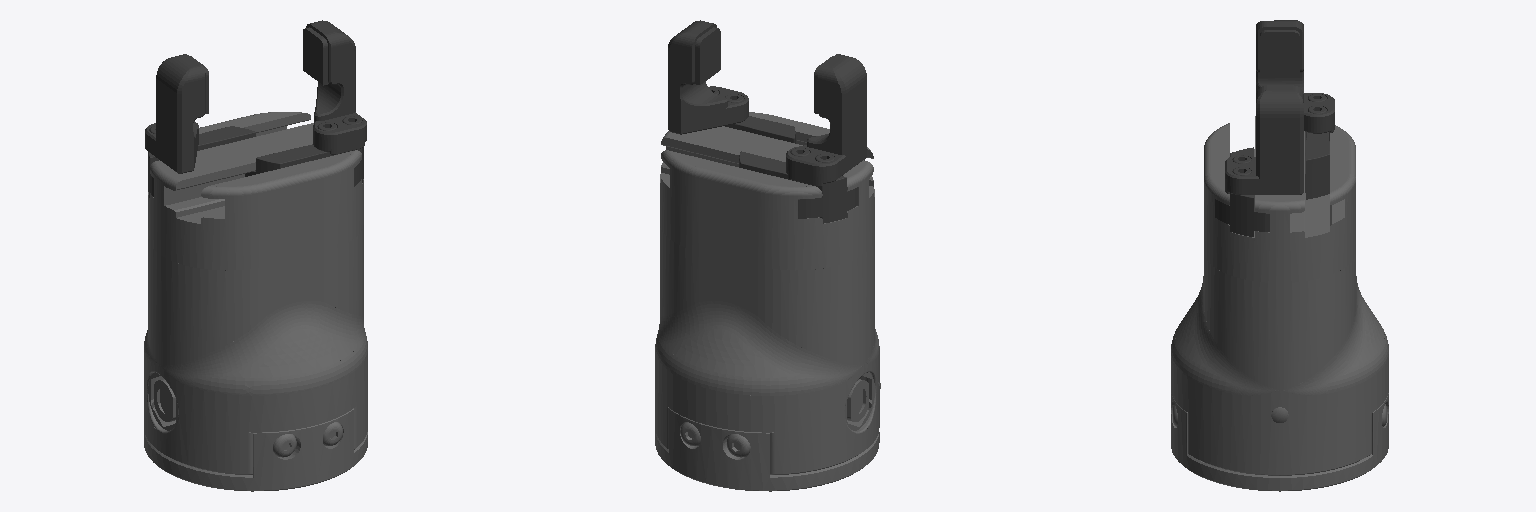
The robot description file, URDF, robot "pgc50":
<?xml version="1.0" ?>
<!-- =================================================================================== -->
<!-- |    This document was autogenerated by xacro from [local-path]/catkin_ws/src/acroba_ros/acroba_resources/urdf/pgc50.xacro | -->
<!-- |    EDITING THIS FILE BY HAND IS NOT RECOMMENDED                                 | -->
<!-- =================================================================================== -->
<robot name="pgc50">
  <material name="pgc_dark_grey">
    <color rgba="0.3 0.3 0.3 1.0"/>
  </material>
  <material name="pgc_grey">
    <color rgba="0.45 0.45 0.45 1.0"/>
  </material>
  <!-- Finger and body intersect for 1.3mm this is taking into account in finger_length-->
  <link name="base_body">
    <visual>
      <origin rpy="0 0 0" xyz="0.0 0.0 0.0"/>
      <geometry>
        <mesh filename="package://acroba_resources/meshes/pgc50/body.stl" scale="0.001 0.001 0.001"/>
      </geometry>
      <material name="pgc_grey"/>
    </visual>
    <collision>
      <origin rpy="0 0 0" xyz="0.0 0.0 0.0"/>
      <geometry>
        <mesh filename="package://acroba_resources/meshes/pgc50/body.stl" scale="0.001 0.001 0.001"/>
      </geometry>
    </collision>
    <inertial>
      <mass value="0.5"/>
      <inertia ixx="0.0037" ixy="0.0" ixz="0.0" iyy="0.0037" iyz="0.0" izz="0.0146"/>
    </inertial>
  </link>
  <link name="base_finger_1">
    <visual>
      <origin rpy="0 0 0" xyz="0.0 0.0 0.0"/>
      <geometry>
        <mesh filename="package://acroba_resources/meshes/pgc50/finger_holder_1.stl" scale="0.001 0.001 0.001"/>
      </geometry>
      <material name="pgc_dark_grey"/>
    </visual>
    <collision>
      <origin rpy="0 0 0" xyz="0.0 0.0 0.0"/>
      <geometry>
        <mesh filename="package://acroba_resources/meshes/pgc50/finger_holder_1.stl" scale="0.001 0.001 0.001"/>
      </geometry>
    </collision>
    <inertial>
      <mass value="0.05"/>
      <inertia ixx="0.0037" ixy="0.0" ixz="0.0" iyy="0.0037" iyz="0.0" izz="0.0146"/>
    </inertial>
  </link>
  <link name="base_finger_2">
    <visual>
      <origin rpy="0 0 0" xyz="0.0 0.0 0.0"/>
      <geometry>
        <mesh filename="package://acroba_resources/meshes/pgc50/finger_holder_2.stl" scale="0.001 0.001 0.001"/>
      </geometry>
      <material name="pgc_dark_grey"/>
    </visual>
    <collision>
      <origin rpy="0 0 0" xyz="0.0 0.0 0.0"/>
      <geometry>
        <mesh filename="package://acroba_resources/meshes/pgc50/finger_holder_2.stl" scale="0.001 0.001 0.001"/>
      </geometry>
    </collision>
    <inertial>
      <mass value="0.05"/>
      <inertia ixx="0.0037" ixy="0.0" ixz="0.0" iyy="0.0037" iyz="0.0" izz="0.0146"/>
    </inertial>
  </link>
  <link name="finger_1">
    <visual>
      <origin rpy="0.0 0.0 0.0" xyz="0 0 0"/>
      <geometry>
        <mesh filename="package://acroba_resources/meshes/pgc50/finger_1.stl" scale="0.001 0.001 0.001"/>
      </geometry>
      <material name="pgc_dark_grey"/>
    </visual>
    <collision>
      <origin rpy="0.0 0.0 0.0" xyz="0 0 0"/>
      <geometry>
        <mesh filename="package://acroba_resources/meshes/pgc50/finger_1.stl" scale="0.001 0.001 0.001"/>
      </geometry>
    </collision>
    <inertial>
      <mass value="0.1"/>
      <inertia ixx="0.0037" ixy="0.0" ixz="0.0" iyy="0.0037" iyz="0.0" izz="0.0146"/>
    </inertial>
  </link>
  <link name="finger_2">
    <visual>
      <origin rpy="0.0 0.0 0.0" xyz="0 0 0"/>
      <geometry>
        <mesh filename="package://acroba_resources/meshes/pgc50/finger_2.stl" scale="0.001 0.001 0.001"/>
      </geometry>
      <material name="pgc_dark_grey"/>
    </visual>
    <collision>
      <origin rpy="0.0 0.0 0.0" xyz="0 0 0"/>
      <geometry>
        <mesh filename="package://acroba_resources/meshes/pgc50/finger_2.stl" scale="0.001 0.001 0.001"/>
      </geometry>
    </collision>
    <inertial>
      <mass value="0.1"/>
      <inertia ixx="0.0037" ixy="0.0" ixz="0.0" iyy="0.0037" iyz="0.0" izz="0.0146"/>
    </inertial>
  </link>
  <joint name="joint_base_finger_1" type="prismatic">
    <origin rpy="0 0 0" xyz="0 0 0"/>
    <parent link="base_body"/>
    <child link="base_finger_1"/>
    <axis xyz="1 0 0"/>
    <limit effort="50" lower="0" upper="0.0175" velocity="10"/>
  </joint>
  <joint name="joint_base_finger_2" type="prismatic">
    <origin rpy="0 0 0" xyz="0 0 0"/>
    <parent link="base_body"/>
    <child link="base_finger_2"/>
    <axis xyz="-1 0 0"/>
    <limit effort="50" lower="0" upper="0.0175" velocity="10"/>
  </joint>
  <joint name="joint_finger_1" type="fixed">
    <origin rpy="0 0 0" xyz="0 0 0"/>
    <parent link="base_finger_1"/>
    <child link="finger_1"/>
  </joint>
  <joint name="joint_finger_2" type="fixed">
    <origin rpy="0 0 0" xyz="0 0 0"/>
    <parent link="base_finger_2"/>
    <child link="finger_2"/>
  </joint>
  <link name="gripping_point"/>
  <joint name="joint_gripping" type="fixed">
    <origin rpy="0 0 0" xyz="0. 0 0.1242"/>
    <parent link="base_body"/>
    <child link="gripping_point"/>
  </joint>
</robot>

--- Render facts (derived) ---
3 views of the same robot in one strip: view 1: azimuth 30°, elevation 25°; view 2: azimuth 150°, elevation 25°; view 3: azimuth 270°, elevation 25° (orthographic).
Model pgc50 with 6 links and 5 joints (2 prismatic, 3 fixed), rooted at base_body, posed every joint at zero.
Visible links, largest first — view 1: base_body, finger_2, finger_1, base_finger_2, base_finger_1; view 2: base_body, finger_1, finger_2, base_finger_1, base_finger_2; view 3: base_body, finger_2, finger_1, base_finger_2, base_finger_1.
Boxes of the visible links, box(x1,y1,x2,y2) form: base_body: box(144, 112, 367, 491); finger_2: box(303, 20, 366, 154); finger_1: box(145, 54, 208, 173); base_finger_2: box(245, 144, 363, 186); base_finger_1: box(148, 126, 255, 197); base_body: box(655, 112, 880, 491); finger_1: box(786, 54, 866, 185); finger_2: box(668, 20, 748, 134); base_finger_1: box(739, 151, 857, 223); base_finger_2: box(725, 116, 795, 143); base_body: box(1171, 116, 1388, 491); finger_2: box(1225, 85, 1303, 194); finger_1: box(1256, 20, 1334, 133); base_finger_2: box(1215, 147, 1269, 236); base_finger_1: box(1305, 131, 1329, 199).
Size in the robot's own frame: 0.0652 by 0.063 by 0.127 metres.
Meshes: 5 distinct files referenced, 5 mesh visuals loaded (5 binary STL).
